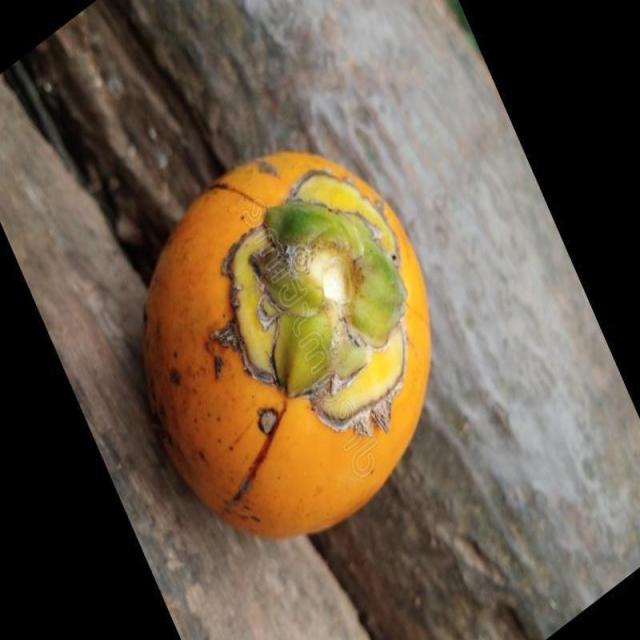good: (144, 153, 432, 543)
